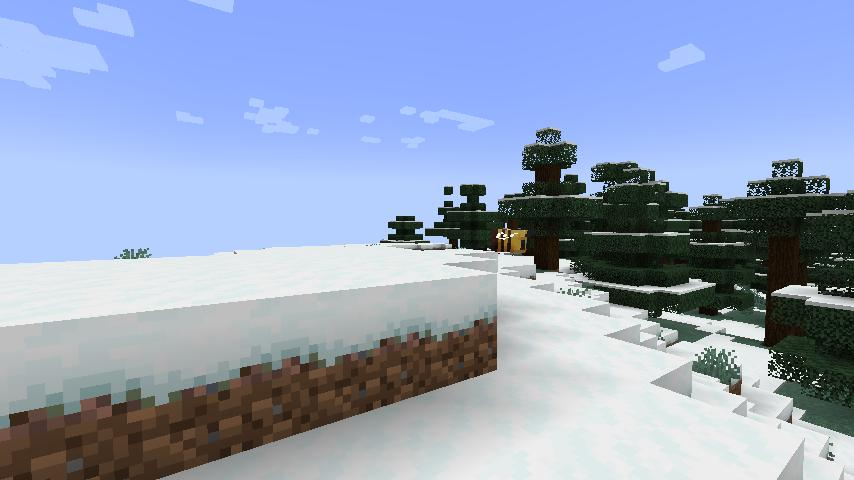bee: (488, 226, 532, 256)
